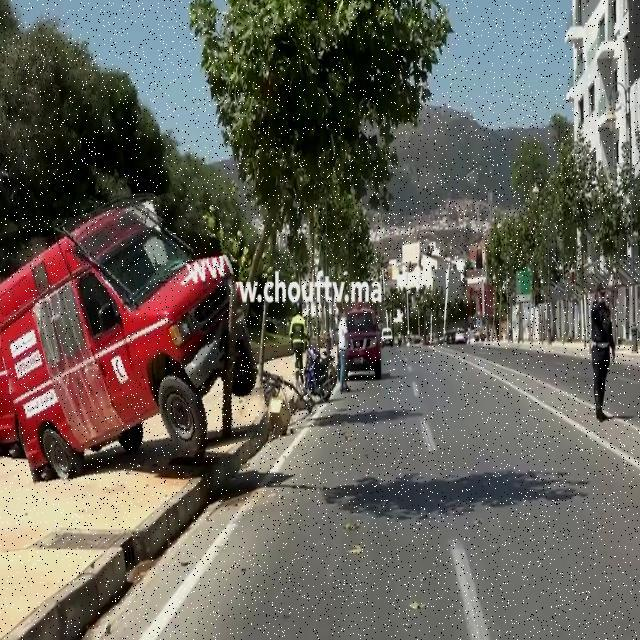ambulance: (0, 195, 258, 479)
